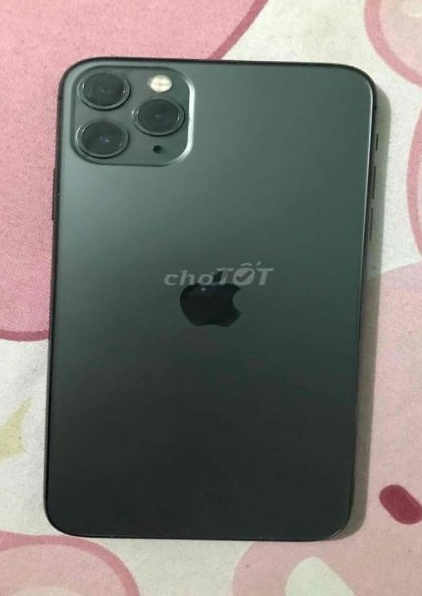scratch: (65, 65, 184, 160)
